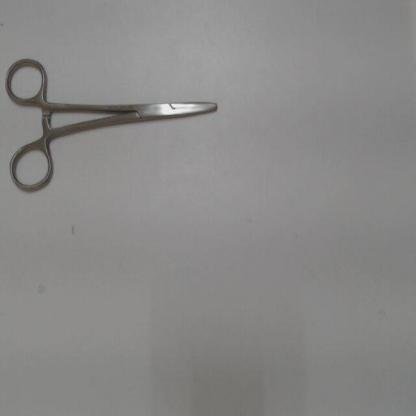Mayo Needle Holder: (1, 52, 230, 200)
